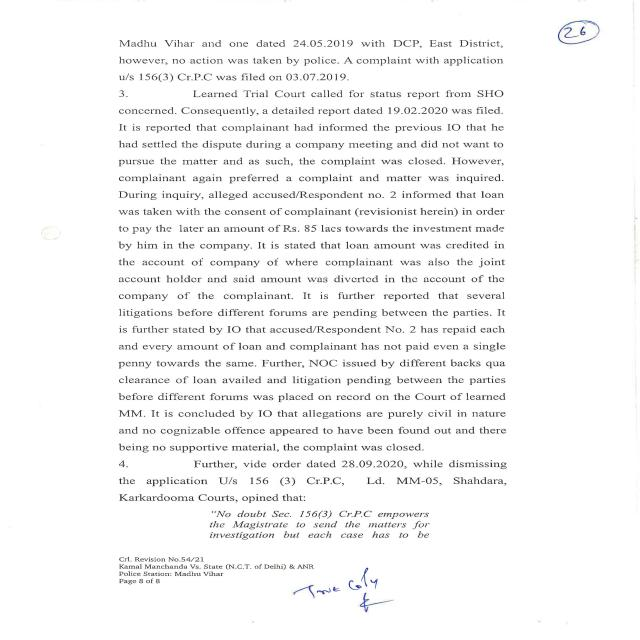page-number: (514, 2, 640, 78)
